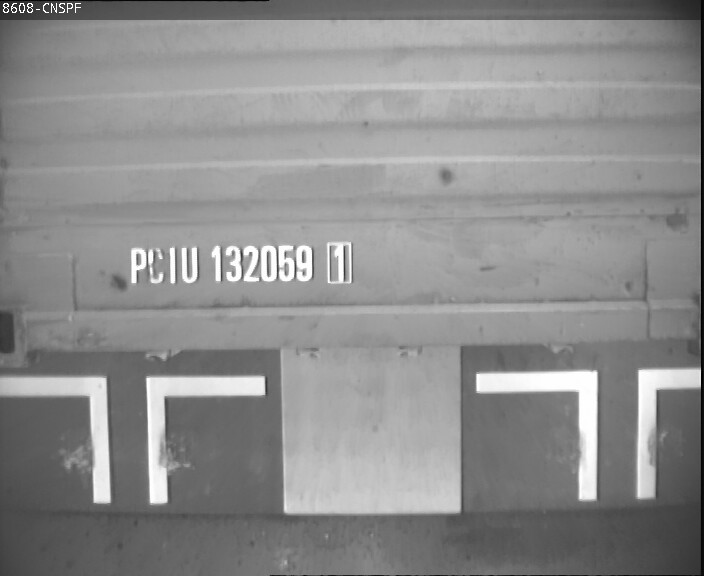groundmarker_1: (6, 374, 263, 506), (478, 365, 704, 500)
